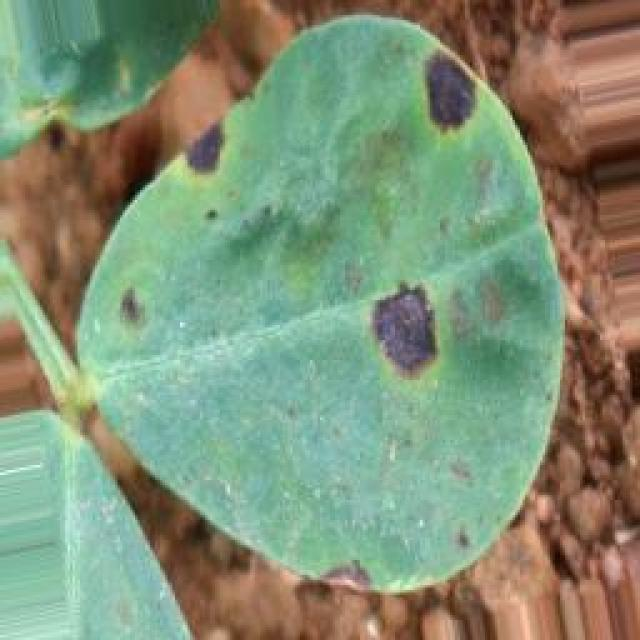Yellowish: (77, 0, 544, 627)
